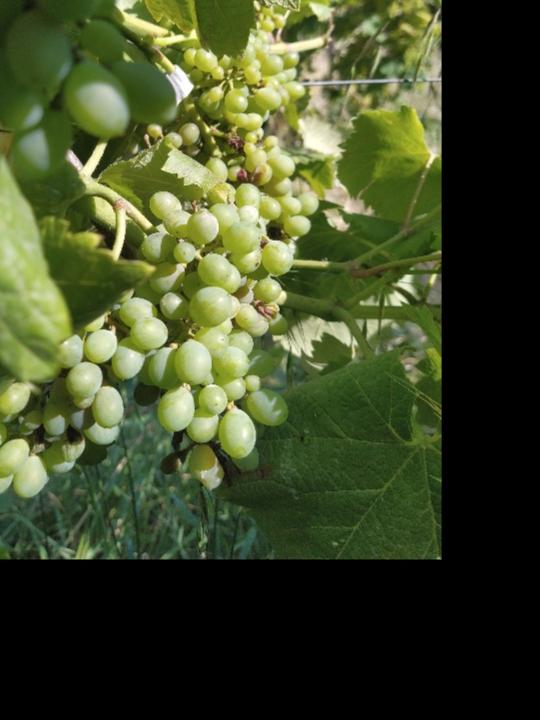grape: (0, 179, 325, 501)
